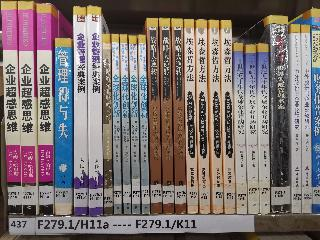book-spine: (0, 1, 23, 216), (17, 1, 38, 216), (269, 16, 291, 213), (69, 7, 88, 216), (205, 20, 225, 215), (36, 2, 54, 215), (86, 5, 104, 218), (52, 37, 73, 215), (170, 18, 188, 216), (158, 18, 176, 215), (182, 18, 200, 215), (146, 18, 163, 215), (231, 41, 249, 215), (221, 20, 237, 214), (196, 19, 211, 216), (125, 35, 141, 215), (108, 33, 123, 214), (257, 43, 272, 213), (101, 33, 114, 216), (137, 34, 150, 216), (245, 43, 258, 214), (119, 34, 131, 215), (290, 24, 301, 214), (302, 24, 311, 214), (312, 8, 320, 215)
